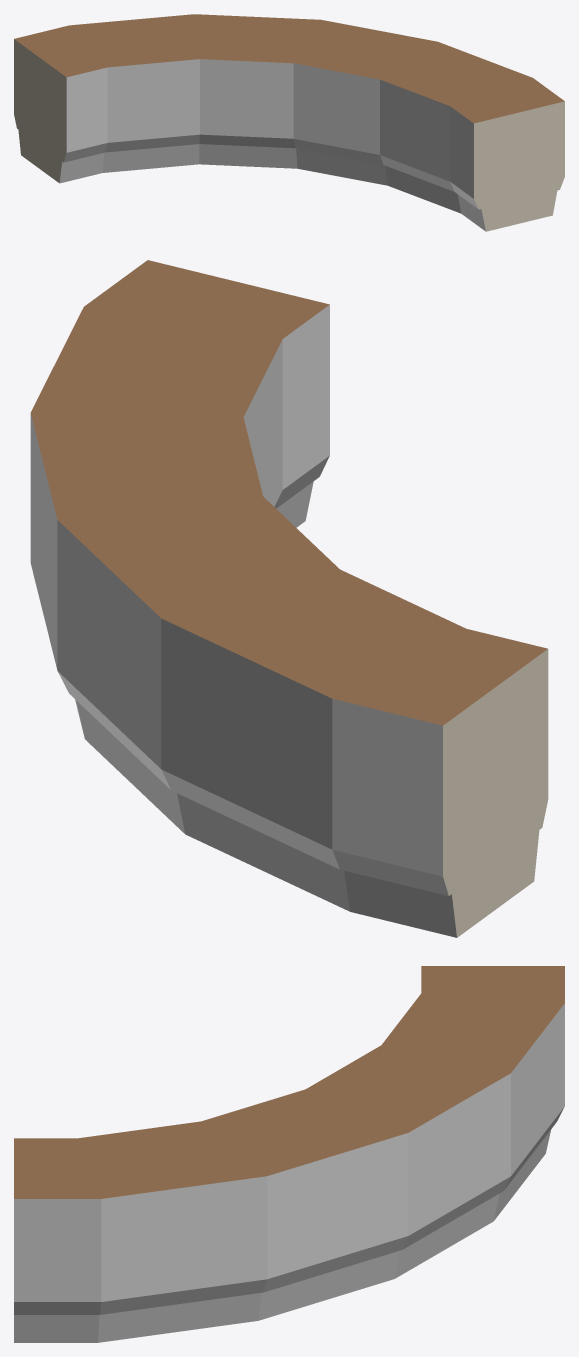
File: Wall_Curved_Small_Top.obj
3 renders of one model, top to bottom at view 1: azimuth 30°, elevation 25°; view 2: azimuth 150°, elevation 25°; view 3: azimuth 270°, elevation 25°, orthographic. The views are drawn at different scales.
Visible parts, largest first — view 1: object1; view 2: object1; view 3: object1.
Boxes of the visible parts, bbox=[...] form: object1: bbox=[14, 14, 564, 231]; object1: bbox=[30, 260, 548, 937]; object1: bbox=[14, 966, 564, 1342].
Bounding box in the file's own units: 1.15 × 0.35 × 1.15.
